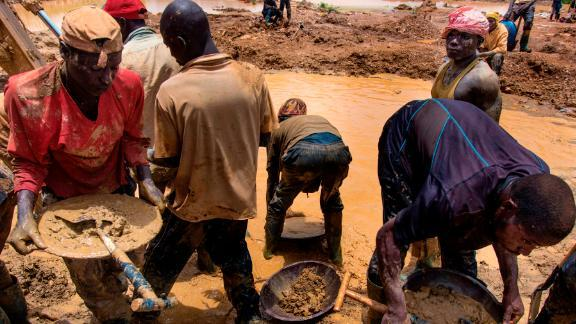MiningTool: (52, 200, 174, 312), (35, 190, 163, 259), (392, 267, 512, 324), (257, 258, 346, 323), (331, 272, 417, 324), (272, 214, 331, 244), (508, 5, 526, 53), (498, 18, 516, 34)
Person: (374, 95, 576, 318), (146, 1, 281, 324), (4, 5, 172, 261), (98, 1, 218, 264), (262, 95, 345, 257), (433, 7, 504, 128), (504, 1, 534, 54), (260, 1, 281, 23), (277, 1, 292, 21), (548, 1, 560, 21), (566, 2, 576, 17)
